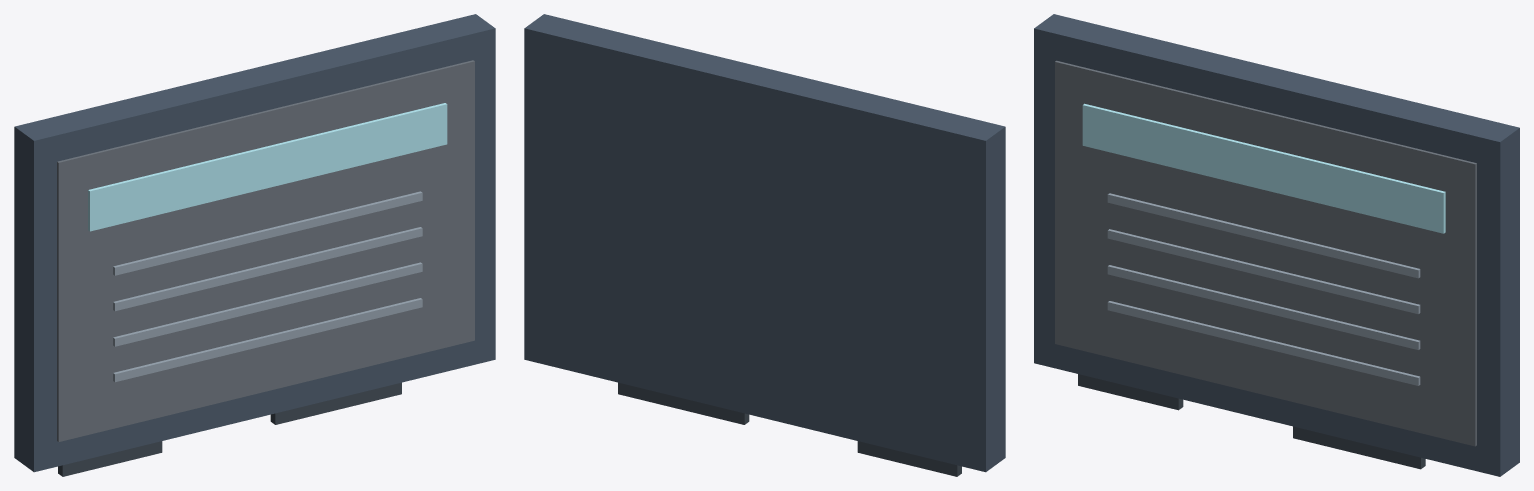
The model's file is ssd-sata.glb.
3 views of the same model, side by side, from view 1: azimuth 30°, elevation 25°; view 2: azimuth 150°, elevation 25°; view 3: azimuth 330°, elevation 25° (orthographic).
Visible parts, largest first — view 1: label_panel_2, sata_ssd_case_1, brand_band_3, label_etch_7, label_etch_4, label_etch_5, label_etch_6, sata_power_port_9, sata_data_port_8; view 2: sata_ssd_case_1, sata_power_port_9, sata_data_port_8; view 3: label_panel_2, sata_ssd_case_1, brand_band_3, label_etch_5, label_etch_4, label_etch_6, label_etch_7, sata_power_port_9, sata_data_port_8.
Boxes of the visible parts, x1,y1,x2,y2 form: label_panel_2: [57, 60, 474, 441]; sata_ssd_case_1: [14, 14, 495, 472]; brand_band_3: [88, 103, 447, 231]; label_etch_7: [113, 298, 422, 382]; label_etch_4: [113, 191, 422, 275]; label_etch_5: [113, 227, 422, 311]; label_etch_6: [113, 262, 422, 346]; sata_power_port_9: [270, 382, 401, 424]; sata_data_port_8: [58, 441, 162, 476]; sata_ssd_case_1: [524, 14, 1005, 472]; sata_power_port_9: [618, 382, 749, 424]; sata_data_port_8: [857, 441, 961, 476]; label_panel_2: [1055, 60, 1476, 446]; sata_ssd_case_1: [1034, 14, 1519, 476]; brand_band_3: [1082, 103, 1445, 233]; label_etch_5: [1107, 229, 1420, 314]; label_etch_4: [1107, 193, 1420, 278]; label_etch_6: [1107, 265, 1420, 349]; label_etch_7: [1107, 301, 1420, 385]; sata_power_port_9: [1293, 426, 1425, 469]; sata_data_port_8: [1078, 374, 1183, 410].
Size of the model in its own units: 1.02 by 0.74 by 0.09.
